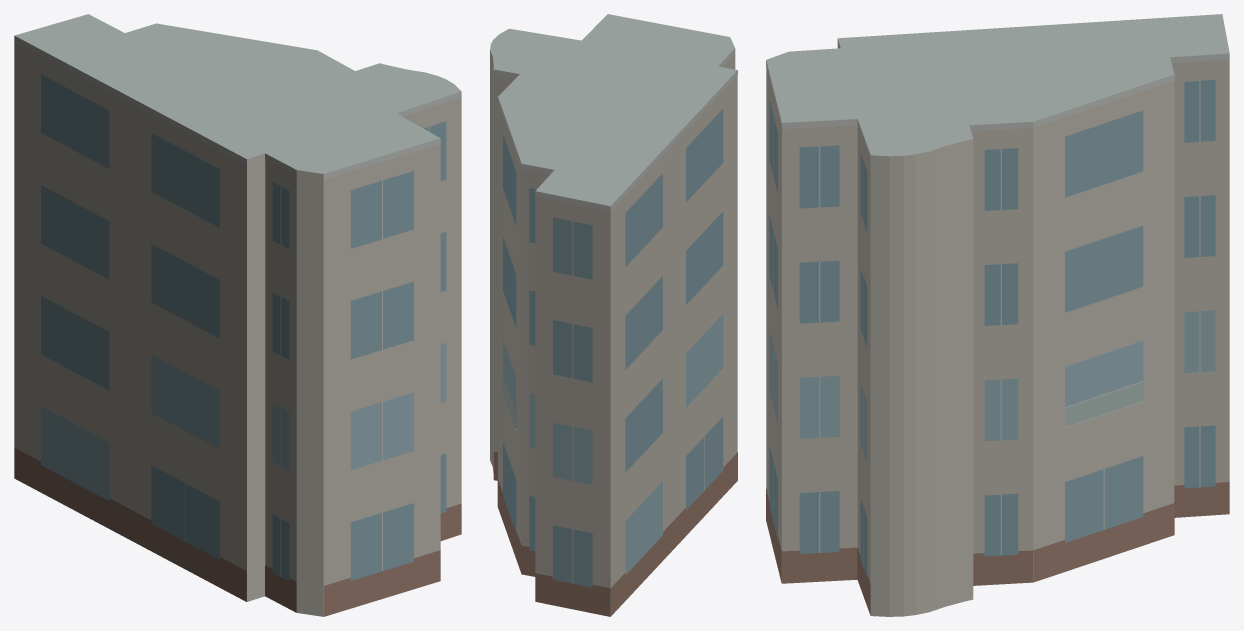
The model's file is survey-upis-32474080.glb.
3 renders of one model, left to right at view 1: azimuth 30°, elevation 25°; view 2: azimuth 150°, elevation 25°; view 3: azimuth 270°, elevation 25°, orthographic. The views are drawn at different scales.
Visible parts, largest first — view 1: survey-upis-32474080.tmp; view 2: survey-upis-32474080.tmp; view 3: survey-upis-32474080.tmp.
Part boxes in pixels (x1=…): survey-upis-32474080.tmp: x1=14, y1=14, x2=461, y2=616; survey-upis-32474080.tmp: x1=490, y1=14, x2=737, y2=616; survey-upis-32474080.tmp: x1=766, y1=14, x2=1229, y2=616.
Bounding box in the file's own units: 12.45 × 18.8 × 17.15.
